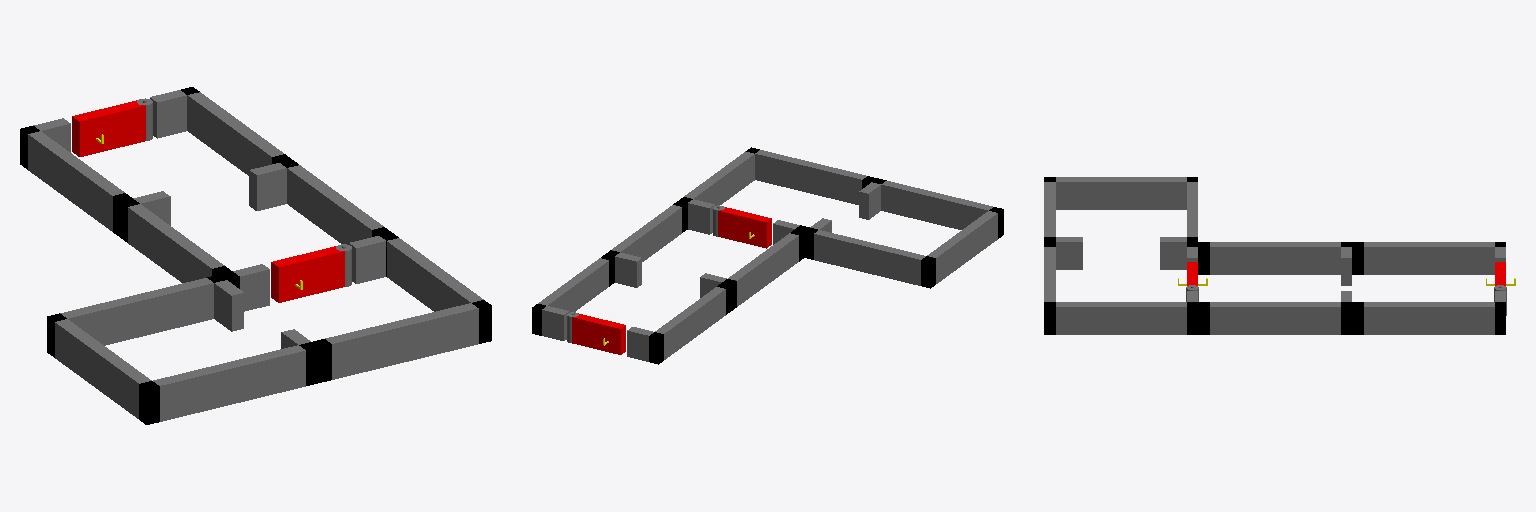
--- Facts derived from the render (not from the file) ---
3 views of the same robot in one strip: view 1: azimuth 30°, elevation 25°; view 2: azimuth 150°, elevation 25°; view 3: azimuth 270°, elevation 25° (orthographic).
Model rooms2 with 54 links and 53 joints (2 revolute, 2 prismatic, 49 fixed), rooted at base_link, posed every joint at zero.
Links seen in each view (by area): view 1: link_fixed_26_wall_(1.0, -0.4625), link_fixed_11_wall_(0.0, -0.4625), link_fixed_4_wall_(0.0, 0.4625), link_fixed_48_wall_(0.5375, 2.0), link_fixed_9_wall_(-0.4625, 0.0), link_fixed_46_wall_(1.4625, 2.0), link_fixed_31_wall_(1.4625, 1.0), link_fixed_33_wall_(0.5375, 1.0), link_fixed_23_wall_(1.4625, 0.0), link_fixed_17_door_panel, link_fixed_40_door_panel, link_fixed_29_wall_(1.3375, 1.4625) (+10 smaller); view 2: link_fixed_4_wall_(0.0, 0.4625), link_fixed_26_wall_(1.0, -0.4625), link_fixed_11_wall_(0.0, -0.4625), link_fixed_33_wall_(0.5375, 1.0), link_fixed_48_wall_(0.5375, 2.0), link_fixed_9_wall_(-0.4625, 0.0), link_fixed_31_wall_(1.4625, 1.0), link_fixed_23_wall_(1.4625, 0.0), link_fixed_46_wall_(1.4625, 2.0), link_fixed_40_door_panel, link_fixed_17_door_panel, link_fixed_29_wall_(1.3375, 1.4625) (+4 smaller); view 3: link_fixed_23_wall_(1.4625, 0.0), link_fixed_31_wall_(1.4625, 1.0), link_fixed_33_wall_(0.5375, 1.0), link_fixed_46_wall_(1.4625, 2.0), link_fixed_48_wall_(0.5375, 2.0), link_fixed_9_wall_(-0.4625, 0.0), link_fixed_6_wall_(0.4625, -0.3375), link_fixed_7_wall_(0.4625, 0.3375), link_fixed_11_wall_(0.0, -0.4625), link_fixed_26_wall_(1.0, -0.4625), link_fixed_4_wall_(0.0, 0.4625).
Boxes of the visible links, box(x1,y1,x2,y2) form: link_fixed_26_wall_(1.0, -0.4625): box(325, 303, 478, 379); link_fixed_11_wall_(0.0, -0.4625): box(153, 345, 305, 421); link_fixed_4_wall_(0.0, 0.4625): box(60, 278, 213, 345); link_fixed_48_wall_(0.5375, 2.0): box(28, 131, 124, 231); link_fixed_9_wall_(-0.4625, 0.0): box(55, 319, 151, 418); link_fixed_46_wall_(1.4625, 2.0): box(187, 92, 283, 175); link_fixed_31_wall_(1.4625, 1.0): box(287, 165, 383, 244); link_fixed_33_wall_(0.5375, 1.0): box(128, 204, 224, 282); link_fixed_23_wall_(1.4625, 0.0): box(387, 238, 483, 311); link_fixed_17_door_panel: box(271, 246, 344, 302); link_fixed_40_door_panel: box(72, 100, 145, 156); link_fixed_29_wall_(1.3375, 1.4625): box(249, 163, 286, 210); link_fixed_4_wall_(0.0, 0.4625): box(814, 230, 925, 285); link_fixed_26_wall_(1.0, -0.4625): box(755, 150, 866, 204); link_fixed_11_wall_(0.0, -0.4625): box(881, 181, 992, 229); link_fixed_33_wall_(0.5375, 1.0): box(728, 233, 798, 306); link_fixed_48_wall_(0.5375, 2.0): box(655, 287, 725, 359); link_fixed_9_wall_(-0.4625, 0.0): box(927, 211, 997, 283); link_fixed_31_wall_(1.4625, 1.0): box(612, 205, 681, 261); link_fixed_23_wall_(1.4625, 0.0): box(684, 151, 754, 205); link_fixed_46_wall_(1.4625, 2.0): box(538, 258, 608, 312); link_fixed_40_door_panel: box(572, 313, 625, 354); link_fixed_17_door_panel: box(718, 207, 771, 248); link_fixed_29_wall_(1.3375, 1.4625): box(615, 252, 641, 287); link_fixed_23_wall_(1.4625, 0.0): box(1056, 302, 1186, 334); link_fixed_31_wall_(1.4625, 1.0): box(1210, 302, 1340, 334); link_fixed_33_wall_(0.5375, 1.0): box(1210, 242, 1340, 274); link_fixed_46_wall_(1.4625, 2.0): box(1364, 302, 1494, 334); link_fixed_48_wall_(0.5375, 2.0): box(1364, 242, 1494, 274); link_fixed_9_wall_(-0.4625, 0.0): box(1056, 177, 1186, 209); link_fixed_6_wall_(0.4625, -0.3375): box(1056, 237, 1082, 269); link_fixed_7_wall_(0.4625, 0.3375): box(1160, 237, 1186, 269); link_fixed_11_wall_(0.0, -0.4625): box(1044, 182, 1055, 236); link_fixed_26_wall_(1.0, -0.4625): box(1044, 247, 1055, 301); link_fixed_4_wall_(0.0, 0.4625): box(1187, 182, 1197, 236).
Bounding box of the posed robot: 8 × 12.24 × 0.879 m (x, y, z).
Geometry: only primitive shapes (box / cylinder / sphere) drawn; not drawn: 2 mesh visuals (reference in a form the renderer does not follow).

URDF robot description (rooms2):
<?xml version="1.0"?>
<!-- created with Phobos 1.0.1 "Capricious Choutengan" -->
  <robot name="rooms2">

    <link name="base_link">
    </link>

    <link name="goal">
    </link>

    <link name="link_0_joint_0">
      <visual name="visual_mesh_2_link_0">
        <origin xyz="0 0 0" rpy="0 0 0"/>
        <geometry>
          <mesh filename="file://[local-path]/ba/puzzle-generator/puzzles/rooms2/meshes/stl/robot.stl" scale="1.0 1.0 1.0"/>
        </geometry>
        <material name="green"/>
      </visual>
      <collision name="collision_mesh_2_link_0">
        <origin xyz="0 0 0" rpy="0 0 0"/>
        <geometry>
          <mesh filename="file://[local-path]/ba/puzzle-generator/puzzles/rooms2/meshes/stl/robot.001.stl" scale="1.0 1.0 1.0"/>
        </geometry>
      </collision>
    </link>

    <link name="link_0_joint_0.001">
      <visual name="visual_mesh_2_link_0.001">
        <origin xyz="0 0 0" rpy="0 0 0"/>
        <geometry>
          <mesh filename="file://[local-path]/ba/puzzle-generator/puzzles/rooms2/meshes/stl/robot.002.stl" scale="0.999 0.999 0.999"/>
        </geometry>
        <material name="green_translucent"/>
      </visual>
    </link>

    <link name="link_0_joint_1">
    </link>

    <link name="link_0_joint_1.001">
    </link>

    <link name="link_0_joint_2">
    </link>

    <link name="link_1_joint_0">
      <visual name="visual_cylinder_15_link_1">
        <origin xyz="0 0 0" rpy="0 0 0"/>
        <geometry>
          <cylinder radius="0.1645" length="0.799"/>
        </geometry>
        <material name="gray"/>
      </visual>
      <collision name="collision_cylinder_15_link_1">
        <origin xyz="0 0 0" rpy="0 0 0"/>
        <geometry>
          <cylinder radius="0.1645" length="0.799"/>
        </geometry>
      </collision>
    </link>

    <link name="link_2_joint_0">
      <visual name="visual_cylinder_38_link_2">
        <origin xyz="0 0 0" rpy="0 0 0"/>
        <geometry>
          <cylinder radius="0.1645" length="0.799"/>
        </geometry>
        <material name="gray"/>
      </visual>
      <collision name="collision_cylinder_38_link_2">
        <origin xyz="0 0 0" rpy="0 0 0"/>
        <geometry>
          <cylinder radius="0.1645" length="0.799"/>
        </geometry>
      </collision>
    </link>

    <link name="link_fixed_10_pillar_(0.4625, -0.4625)">
      <visual name="visual_box_fixed_10_pillar_(0.4625, -0.4625)">
        <origin xyz="0 0 0" rpy="0 0 0"/>
        <geometry>
          <box size="0.299 0.299 0.799"/>
        </geometry>
        <material name="black"/>
      </visual>
      <collision name="collision_box_fixed_10_pillar_(0.4625, -0.4625)">
        <origin xyz="0 0 0" rpy="0 0 0"/>
        <geometry>
          <box size="0.299 0.299 0.799"/>
        </geometry>
      </collision>
    </link>

    <link name="link_fixed_11_wall_(0.0, -0.4625)">
      <visual name="visual_box_fixed_11_wall_(0.0, -0.4625)">
        <origin xyz="0 0 0" rpy="0 0 0"/>
        <geometry>
          <box size="3.399 0.299 0.799"/>
        </geometry>
        <material name="gray"/>
      </visual>
      <collision name="collision_box_fixed_11_wall_(0.0, -0.4625)">
        <origin xyz="0 0 0" rpy="0 0 0"/>
        <geometry>
          <box size="3.399 0.299 0.799"/>
        </geometry>
      </collision>
    </link>

    <link name="link_fixed_12_pillar_(0.5375, 0.4625)">
      <visual name="visual_box_fixed_12_pillar_(0.5375, 0.4625)">
        <origin xyz="0 0 0" rpy="0 0 0"/>
        <geometry>
          <box size="0.299 0.299 0.799"/>
        </geometry>
        <material name="black"/>
      </visual>
      <collision name="collision_box_fixed_12_pillar_(0.5375, 0.4625)">
        <origin xyz="0 0 0" rpy="0 0 0"/>
        <geometry>
          <box size="0.299 0.299 0.799"/>
        </geometry>
      </collision>
    </link>

    <link name="link_fixed_13_wall_(0.6625, 0.4625)">
      <visual name="visual_box_fixed_13_wall_(0.6625, 0.4625)">
        <origin xyz="0 0 0" rpy="0 0 0"/>
        <geometry>
          <box size="0.699 0.299 0.799"/>
        </geometry>
        <material name="gray"/>
      </visual>
      <collision name="collision_box_fixed_13_wall_(0.6625, 0.4625)">
        <origin xyz="0 0 0" rpy="0 0 0"/>
        <geometry>
          <box size="0.699 0.299 0.799"/>
        </geometry>
      </collision>
    </link>

    <link name="link_fixed_14_wall_(1.3375, 0.4625)">
      <visual name="visual_box_fixed_14_wall_(1.3375, 0.4625)">
        <origin xyz="0 0 0" rpy="0 0 0"/>
        <geometry>
          <box size="0.699 0.299 0.799"/>
        </geometry>
        <material name="gray"/>
      </visual>
      <collision name="collision_box_fixed_14_wall_(1.3375, 0.4625)">
        <origin xyz="0 0 0" rpy="0 0 0"/>
        <geometry>
          <box size="0.699 0.299 0.799"/>
        </geometry>
      </collision>
    </link>

    <link name="link_fixed_16_hinge">
      <visual name="visual_cylinder_fixed_16_hinge">
        <origin xyz="0 0 0" rpy="0 0 0"/>
        <geometry>
          <cylinder radius="0.04075" length="0.879"/>
        </geometry>
        <material name="gray"/>
      </visual>
    </link>

    <link name="link_fixed_17_door_panel">
      <visual name="visual_box_fixed_17_door_panel">
        <origin xyz="0 0 0" rpy="0 0 0"/>
        <geometry>
          <box size="1.599 0.299 0.795"/>
        </geometry>
        <material name="red"/>
      </visual>
      <collision name="collision_box_fixed_17_door_panel">
        <origin xyz="0 0 0" rpy="0 0 0"/>
        <geometry>
          <box size="1.599 0.299 0.795"/>
        </geometry>
      </collision>
    </link>

    <link name="link_fixed_18_door_handle1">
      <visual name="visual_box_fixed_18_door_handle1">
        <origin xyz="0 0 0" rpy="0 0 0"/>
        <geometry>
          <box size="0.039 0.039 0.199"/>
        </geometry>
        <material name="yellow"/>
      </visual>
      <collision name="collision_box_fixed_18_door_handle1">
        <origin xyz="0 0 0" rpy="0 0 0"/>
        <geometry>
          <box size="0.039 0.039 0.199"/>
        </geometry>
      </collision>
    </link>

    <link name="link_fixed_19_door_handle1_connector">
      <visual name="visual_box_fixed_19_door_handle1_connector">
        <origin xyz="0 0 0" rpy="0 0 0"/>
        <geometry>
          <box size="0.039 0.199 0.039"/>
        </geometry>
        <material name="yellow"/>
      </visual>
      <collision name="collision_box_fixed_19_door_handle1_connector">
        <origin xyz="0 0 0" rpy="0 0 0"/>
        <geometry>
          <box size="0.039 0.199 0.039"/>
        </geometry>
      </collision>
    </link>

    <link name="link_fixed_20_door_handle2">
      <visual name="visual_box_fixed_20_door_handle2">
        <origin xyz="0 0 0" rpy="0 0 0"/>
        <geometry>
          <box size="0.039 0.039 0.199"/>
        </geometry>
        <material name="yellow"/>
      </visual>
      <collision name="collision_box_fixed_20_door_handle2">
        <origin xyz="0 0 0" rpy="0 0 0"/>
        <geometry>
          <box size="0.039 0.039 0.199"/>
        </geometry>
      </collision>
    </link>

    <link name="link_fixed_21_door_handle2_connector">
      <visual name="visual_box_fixed_21_door_handle2_connector">
        <origin xyz="0 0 0" rpy="0 0 0"/>
        <geometry>
          <box size="0.039 0.199 0.039"/>
        </geometry>
        <material name="yellow"/>
      </visual>
      <collision name="collision_box_fixed_21_door_handle2_connector">
        <origin xyz="0 0 0" rpy="0 0 0"/>
        <geometry>
          <box size="0.039 0.199 0.039"/>
        </geometry>
      </collision>
    </link>

    <link name="link_fixed_22_pillar_(1.4625, 0.4625)">
      <visual name="visual_box_fixed_22_pillar_(1.4625, 0.4625)">
        <origin xyz="0 0 0" rpy="0 0 0"/>
        <geometry>
          <box size="0.299 0.299 0.799"/>
        </geometry>
        <material name="black"/>
      </visual>
      <collision name="collision_box_fixed_22_pillar_(1.4625, 0.4625)">
        <origin xyz="0 0 0" rpy="0 0 0"/>
        <geometry>
          <box size="0.299 0.299 0.799"/>
        </geometry>
      </collision>
    </link>

    <link name="link_fixed_23_wall_(1.4625, 0.0)">
      <visual name="visual_box_fixed_23_wall_(1.4625, 0.0)">
        <origin xyz="0 0 0" rpy="0 0 0"/>
        <geometry>
          <box size="0.299 3.399 0.799"/>
        </geometry>
        <material name="gray"/>
      </visual>
      <collision name="collision_box_fixed_23_wall_(1.4625, 0.0)">
        <origin xyz="0 0 0" rpy="0 0 0"/>
        <geometry>
          <box size="0.299 3.399 0.799"/>
        </geometry>
      </collision>
    </link>

    <link name="link_fixed_24_pillar_(0.5375, -0.4625)">
      <visual name="visual_box_fixed_24_pillar_(0.5375, -0.4625)">
        <origin xyz="0 0 0" rpy="0 0 0"/>
        <geometry>
          <box size="0.299 0.299 0.799"/>
        </geometry>
        <material name="black"/>
      </visual>
      <collision name="collision_box_fixed_24_pillar_(0.5375, -0.4625)">
        <origin xyz="0 0 0" rpy="0 0 0"/>
        <geometry>
          <box size="0.299 0.299 0.799"/>
        </geometry>
      </collision>
    </link>

    <link name="link_fixed_25_pillar_(1.4625, -0.4625)">
      <visual name="visual_box_fixed_25_pillar_(1.4625, -0.4625)">
        <origin xyz="0 0 0" rpy="0 0 0"/>
        <geometry>
          <box size="0.299 0.299 0.799"/>
        </geometry>
        <material name="black"/>
      </visual>
      <collision name="collision_box_fixed_25_pillar_(1.4625, -0.4625)">
        <origin xyz="0 0 0" rpy="0 0 0"/>
        <geometry>
          <box size="0.299 0.299 0.799"/>
        </geometry>
      </collision>
    </link>

    <link name="link_fixed_26_wall_(1.0, -0.4625)">
      <visual name="visual_box_fixed_26_wall_(1.0, -0.4625)">
        <origin xyz="0 0 0" rpy="0 0 0"/>
        <geometry>
          <box size="3.399 0.299 0.799"/>
        </geometry>
        <material name="gray"/>
      </visual>
      <collision name="collision_box_fixed_26_wall_(1.0, -0.4625)">
        <origin xyz="0 0 0" rpy="0 0 0"/>
        <geometry>
          <box size="3.399 0.299 0.799"/>
        </geometry>
      </collision>
    </link>

    <link name="link_fixed_27_pillar_(0.5375, 1.4625)">
      <visual name="visual_box_fixed_27_pillar_(0.5375, 1.4625)">
        <origin xyz="0 0 0" rpy="0 0 0"/>
        <geometry>
          <box size="0.299 0.299 0.799"/>
        </geometry>
        <material name="black"/>
      </visual>
      <collision name="collision_box_fixed_27_pillar_(0.5375, 1.4625)">
        <origin xyz="0 0 0" rpy="0 0 0"/>
        <geometry>
          <box size="0.299 0.299 0.799"/>
        </geometry>
      </collision>
    </link>

    <link name="link_fixed_28_wall_(0.6625, 1.4625)">
      <visual name="visual_box_fixed_28_wall_(0.6625, 1.4625)">
        <origin xyz="0 0 0" rpy="0 0 0"/>
        <geometry>
          <box size="0.699 0.299 0.799"/>
        </geometry>
        <material name="gray"/>
      </visual>
      <collision name="collision_box_fixed_28_wall_(0.6625, 1.4625)">
        <origin xyz="0 0 0" rpy="0 0 0"/>
        <geometry>
          <box size="0.699 0.299 0.799"/>
        </geometry>
      </collision>
    </link>

    <link name="link_fixed_29_wall_(1.3375, 1.4625)">
      <visual name="visual_box_fixed_29_wall_(1.3375, 1.4625)">
        <origin xyz="0 0 0" rpy="0 0 0"/>
        <geometry>
          <box size="0.699 0.299 0.799"/>
        </geometry>
        <material name="gray"/>
      </visual>
      <collision name="collision_box_fixed_29_wall_(1.3375, 1.4625)">
        <origin xyz="0 0 0" rpy="0 0 0"/>
        <geometry>
          <box size="0.699 0.299 0.799"/>
        </geometry>
      </collision>
    </link>

    <link name="link_fixed_30_pillar_(1.4625, 1.4625)">
      <visual name="visual_box_fixed_30_pillar_(1.4625, 1.4625)">
        <origin xyz="0 0 0" rpy="0 0 0"/>
        <geometry>
          <box size="0.299 0.299 0.799"/>
        </geometry>
        <material name="black"/>
      </visual>
      <collision name="collision_box_fixed_30_pillar_(1.4625, 1.4625)">
        <origin xyz="0 0 0" rpy="0 0 0"/>
        <geometry>
          <box size="0.299 0.299 0.799"/>
        </geometry>
      </collision>
    </link>

    <link name="link_fixed_31_wall_(1.4625, 1.0)">
      <visual name="visual_box_fixed_31_wall_(1.4625, 1.0)">
        <origin xyz="0 0 0" rpy="0 0 0"/>
        <geometry>
          <box size="0.299 3.399 0.799"/>
        </geometry>
        <material name="gray"/>
      </visual>
      <collision name="collision_box_fixed_31_wall_(1.4625, 1.0)">
        <origin xyz="0 0 0" rpy="0 0 0"/>
        <geometry>
          <box size="0.299 3.399 0.799"/>
        </geometry>
      </collision>
    </link>

    <link name="link_fixed_32_pillar_(0.5375, 0.5375)">
      <visual name="visual_box_fixed_32_pillar_(0.5375, 0.5375)">
        <origin xyz="0 0 0" rpy="0 0 0"/>
        <geometry>
          <box size="0.299 0.299 0.799"/>
        </geometry>
        <material name="black"/>
      </visual>
      <collision name="collision_box_fixed_32_pillar_(0.5375, 0.5375)">
        <origin xyz="0 0 0" rpy="0 0 0"/>
        <geometry>
          <box size="0.299 0.299 0.799"/>
        </geometry>
      </collision>
    </link>

    <link name="link_fixed_33_wall_(0.5375, 1.0)">
      <visual name="visual_box_fixed_33_wall_(0.5375, 1.0)">
        <origin xyz="0 0 0" rpy="0 0 0"/>
        <geometry>
          <box size="0.299 3.399 0.799"/>
        </geometry>
        <material name="gray"/>
      </visual>
      <collision name="collision_box_fixed_33_wall_(0.5375, 1.0)">
        <origin xyz="0 0 0" rpy="0 0 0"/>
        <geometry>
          <box size="0.299 3.399 0.799"/>
        </geometry>
      </collision>
    </link>

    <link name="link_fixed_34_pillar_(1.4625, 0.5375)">
      <visual name="visual_box_fixed_34_pillar_(1.4625, 0.5375)">
        <origin xyz="0 0 0" rpy="0 0 0"/>
        <geometry>
          <box size="0.299 0.299 0.799"/>
        </geometry>
        <material name="black"/>
      </visual>
      <collision name="collision_box_fixed_34_pillar_(1.4625, 0.5375)">
        <origin xyz="0 0 0" rpy="0 0 0"/>
        <geometry>
          <box size="0.299 0.299 0.799"/>
        </geometry>
      </collision>
    </link>

    <link name="link_fixed_35_pillar_(0.5375, 2.4625)">
      <visual name="visual_box_fixed_35_pillar_(0.5375, 2.4625)">
        <origin xyz="0 0 0" rpy="0 0 0"/>
        <geometry>
          <box size="0.299 0.299 0.799"/>
        </geometry>
        <material name="black"/>
      </visual>
      <collision name="collision_box_fixed_35_pillar_(0.5375, 2.4625)">
        <origin xyz="0 0 0" rpy="0 0 0"/>
        <geometry>
          <box size="0.299 0.299 0.799"/>
        </geometry>
      </collision>
    </link>

    <link name="link_fixed_36_wall_(0.6625, 2.4625)">
      <visual name="visual_box_fixed_36_wall_(0.6625, 2.4625)">
        <origin xyz="0 0 0" rpy="0 0 0"/>
        <geometry>
          <box size="0.699 0.299 0.799"/>
        </geometry>
        <material name="gray"/>
      </visual>
      <collision name="collision_box_fixed_36_wall_(0.6625, 2.4625)">
        <origin xyz="0 0 0" rpy="0 0 0"/>
        <geometry>
          <box size="0.699 0.299 0.799"/>
        </geometry>
      </collision>
    </link>

    <link name="link_fixed_37_wall_(1.3375, 2.4625)">
      <visual name="visual_box_fixed_37_wall_(1.3375, 2.4625)">
        <origin xyz="0 0 0" rpy="0 0 0"/>
        <geometry>
          <box size="0.699 0.299 0.799"/>
        </geometry>
        <material name="gray"/>
      </visual>
      <collision name="collision_box_fixed_37_wall_(1.3375, 2.4625)">
        <origin xyz="0 0 0" rpy="0 0 0"/>
        <geometry>
          <box size="0.699 0.299 0.799"/>
        </geometry>
      </collision>
    </link>

    <link name="link_fixed_39_hinge">
      <visual name="visual_cylinder_fixed_39_hinge">
        <origin xyz="0 0 0" rpy="0 0 0"/>
        <geometry>
          <cylinder radius="0.04075" length="0.879"/>
        </geometry>
        <material name="gray"/>
      </visual>
    </link>

    <link name="link_fixed_3_pillar_(-0.4625, 0.4625)">
      <visual name="visual_box_fixed_3_pillar_(-0.4625, 0.4625)">
        <origin xyz="0 0 0" rpy="0 0 0"/>
        <geometry>
          <box size="0.299 0.299 0.799"/>
        </geometry>
        <material name="black"/>
      </visual>
      <collision name="collision_box_fixed_3_pillar_(-0.4625, 0.4625)">
        <origin xyz="0 0 0" rpy="0 0 0"/>
        <geometry>
          <box size="0.299 0.299 0.799"/>
        </geometry>
      </collision>
    </link>

    <link name="link_fixed_40_door_panel">
      <visual name="visual_box_fixed_40_door_panel">
        <origin xyz="0 0 0" rpy="0 0 0"/>
        <geometry>
          <box size="1.599 0.299 0.795"/>
        </geometry>
        <material name="red"/>
      </visual>
      <collision name="collision_box_fixed_40_door_panel">
        <origin xyz="0 0 0" rpy="0 0 0"/>
        <geometry>
          <box size="1.599 0.299 0.795"/>
        </geometry>
      </collision>
    </link>

    <link name="link_fixed_41_door_handle1">
      <visual name="visual_box_fixed_41_door_handle1">
        <origin xyz="0 0 0" rpy="0 0 0"/>
        <geometry>
          <box size="0.039 0.039 0.199"/>
        </geometry>
        <material name="yellow"/>
      </visual>
      <collision name="collision_box_fixed_41_door_handle1">
        <origin xyz="0 0 0" rpy="0 0 0"/>
        <geometry>
          <box size="0.039 0.039 0.199"/>
        </geometry>
      </collision>
    </link>

    <link name="link_fixed_42_door_handle1_connector">
      <visual name="visual_box_fixed_42_door_handle1_connector">
        <origin xyz="0 0 0" rpy="0 0 0"/>
        <geometry>
          <box size="0.039 0.199 0.039"/>
        </geometry>
        <material name="yellow"/>
      </visual>
      <collision name="collision_box_fixed_42_door_handle1_connector">
        <origin xyz="0 0 0" rpy="0 0 0"/>
        <geometry>
          <box size="0.039 0.199 0.039"/>
        </geometry>
      </collision>
    </link>

    <link name="link_fixed_43_door_handle2">
      <visual name="visual_box_fixed_43_door_handle2">
        <origin xyz="0 0 0" rpy="0 0 0"/>
        <geometry>
          <box size="0.039 0.039 0.199"/>
        </geometry>
        <material name="yellow"/>
      </visual>
      <collision name="collision_box_fixed_43_door_handle2">
        <origin xyz="0 0 0" rpy="0 0 0"/>
        <geometry>
          <box size="0.039 0.039 0.199"/>
        </geometry>
      </collision>
    </link>

    <link name="link_fixed_44_door_handle2_connector">
      <visual name="visual_box_fixed_44_door_handle2_connector">
        <origin xyz="0 0 0" rpy="0 0 0"/>
        <geometry>
          <box size="0.039 0.199 0.039"/>
        </geometry>
        <material name="yellow"/>
      </visual>
      <collision name="collision_box_fixed_44_door_handle2_connector">
        <origin xyz="0 0 0" rpy="0 0 0"/>
        <geometry>
          <box size="0.039 0.199 0.039"/>
        </geometry>
      </collision>
    </link>

    <link name="link_fixed_45_pillar_(1.4625, 2.4625)">
      <visual name="visual_box_fixed_45_pillar_(1.4625, 2.4625)">
        <origin xyz="0 0 0" rpy="0 0 0"/>
        <geometry>
          <box size="0.299 0.299 0.799"/>
        </geometry>
        <material name="black"/>
      </visual>
      <collision name="collision_box_fixed_45_pillar_(1.4625, 2.4625)">
        <origin xyz="0 0 0" rpy="0 0 0"/>
        <geometry>
          <box size="0.299 0.299 0.799"/>
        </geometry>
      </collision>
    </link>

    <link name="link_fixed_46_wall_(1.4625, 2.0)">
      <visual name="visual_box_fixed_46_wall_(1.4625, 2.0)">
        <origin xyz="0 0 0" rpy="0 0 0"/>
        <geometry>
          <box size="0.299 3.399 0.799"/>
        </geometry>
        <material name="gray"/>
      </visual>
      <collision name="collision_box_fixed_46_wall_(1.4625, 2.0)">
        <origin xyz="0 0 0" rpy="0 0 0"/>
        <geometry>
          <box size="0.299 3.399 0.799"/>
        </geometry>
      </collision>
    </link>

    <link name="link_fixed_47_pillar_(0.5375, 1.5375)">
      <visual name="visual_box_fixed_47_pillar_(0.5375, 1.5375)">
        <origin xyz="0 0 0" rpy="0 0 0"/>
        <geometry>
          <box size="0.299 0.299 0.799"/>
        </geometry>
        <material name="black"/>
      </visual>
      <collision name="collision_box_fixed_47_pillar_(0.5375, 1.5375)">
        <origin xyz="0 0 0" rpy="0 0 0"/>
        <geometry>
          <box size="0.299 0.299 0.799"/>
        </geometry>
      </collision>
    </link>

    <link name="link_fixed_48_wall_(0.5375, 2.0)">
      <visual name="visual_box_fixed_48_wall_(0.5375, 2.0)">
        <origin xyz="0 0 0" rpy="0 0 0"/>
        <geometry>
          <box size="0.299 3.399 0.799"/>
        </geometry>
        <material name="gray"/>
      </visual>
      <collision name="collision_box_fixed_48_wall_(0.5375, 2.0)">
        <origin xyz="0 0 0" rpy="0 0 0"/>
        <geometry>
          <box size="0.299 3.399 0.799"/>
        </geometry>
      </collision>
    </link>

    <link name="link_fixed_49_pillar_(1.4625, 1.5375)">
      <visual name="visual_box_fixed_49_pillar_(1.4625, 1.5375)">
        <origin xyz="0 0 0" rpy="0 0 0"/>
        <geometry>
          <box size="0.299 0.299 0.799"/>
        </geometry>
        <material name="black"/>
      </visual>
      <collision name="collision_box_fixed_49_pillar_(1.4625, 1.5375)">
        <origin xyz="0 0 0" rpy="0 0 0"/>
        <geometry>
          <box size="0.299 0.299 0.799"/>
        </geometry>
      </collision>
    </link>

    <link name="link_fixed_4_wall_(0.0, 0.4625)">
      <visual name="visual_box_fixed_4_wall_(0.0, 0.4625)">
        <origin xyz="0 0 0" rpy="0 0 0"/>
        <geometry>
          <box size="3.399 0.299 0.799"/>
        </geometry>
        <material name="gray"/>
      </visual>
      <collision name="collision_box_fixed_4_wall_(0.0, 0.4625)">
        <origin xyz="0 0 0" rpy="0 0 0"/>
        <geometry>
          <box size="3.399 0.299 0.799"/>
        </geometry>
      </collision>
    </link>

    <link name="link_fixed_5_pillar_(0.4625, 0.4625)">
      <visual name="visual_box_fixed_5_pillar_(0.4625, 0.4625)">
        <origin xyz="0 0 0" rpy="0 0 0"/>
        <geometry>
          <box size="0.299 0.299 0.799"/>
        </geometry>
        <material name="black"/>
      </visual>
      <collision name="collision_box_fixed_5_pillar_(0.4625, 0.4625)">
        <origin xyz="0 0 0" rpy="0 0 0"/>
        <geometry>
          <box size="0.299 0.299 0.799"/>
        </geometry>
      </collision>
    </link>

    <link name="link_fixed_6_wall_(0.4625, -0.3375)">
      <visual name="visual_box_fixed_6_wall_(0.4625, -0.3375)">
        <origin xyz="0 0 0" rpy="0 0 0"/>
        <geometry>
          <box size="0.299 0.699 0.799"/>
        </geometry>
        <material name="gray"/>
      </visual>
      <collision name="collision_box_fixed_6_wall_(0.4625, -0.3375)">
        <origin xyz="0 0 0" rpy="0 0 0"/>
        <geometry>
          <box size="0.299 0.699 0.799"/>
        </geometry>
      </collision>
    </link>

    <link name="link_fixed_7_wall_(0.4625, 0.3375)">
      <visual name="visual_box_fixed_7_wall_(0.4625, 0.3375)">
        <origin xyz="0 0 0" rpy="0 0 0"/>
        <geometry>
          <box size="0.299 0.699 0.799"/>
        </geometry>
        <material name="gray"/>
      </visual>
      <collision name="collision_box_fixed_7_wall_(0.4625, 0.3375)">
        <origin xyz="0 0 0" rpy="0 0 0"/>
        <geometry>
          <box size="0.299 0.699 0.799"/>
        </geometry>
      </collision>
    </link>

    <link name="link_fixed_8_pillar_(-0.4625, -0.4625)">
      <visual name="visual_box_fixed_8_pillar_(-0.4625, -0.4625)">
        <origin xyz="0 0 0" rpy="0 0 0"/>
        <geometry>
          <box size="0.299 0.299 0.799"/>
        </geometry>
        <material name="black"/>
      </visual>
      <collision name="collision_box_fixed_8_pillar_(-0.4625, -0.4625)">
        <origin xyz="0 0 0" rpy="0 0 0"/>
        <geometry>
          <box size="0.299 0.299 0.799"/>
        </geometry>
      </collision>
    </link>

    <link name="link_fixed_9_wall_(-0.4625, 0.0)">
      <visual name="visual_box_fixed_9_wall_(-0.4625, 0.0)">
        <origin xyz="0 0 0" rpy="0 0 0"/>
        <geometry>
          <box size="0.299 3.399 0.799"/>
        </geometry>
        <material name="gray"/>
      </visual>
      <collision name="collision_box_fixed_9_wall_(-0.4625, 0.0)">
        <origin xyz="0 0 0" rpy="0 0 0"/>
        <geometry>
          <box size="0.299 3.399 0.799"/>
        </geometry>
      </collision>
    </link>

    <joint name="goal" type="fixed">
      <origin xyz="4.0 12.0 0.25" rpy="0 0 0"/>
      <parent link="base_link"/>
      <child link="goal"/>
      <limit effort="0" velocity="0"/>
    </joint>

    <joint name="link_0_joint_0" type="fixed">
      <origin xyz="0 0 0" rpy="0 0 0"/>
      <parent link="link_0_joint_1"/>
      <child link="link_0_joint_0"/>
      <limit effort="0" velocity="0"/>
    </joint>

    <joint name="link_0_joint_0.001" type="fixed">
      <origin xyz="0 0 0" rpy="0 0 0"/>
      <parent link="link_0_joint_1.001"/>
      <child link="link_0_joint_0.001"/>
      <limit effort="0" velocity="0"/>
    </joint>

    <joint name="link_0_joint_1" type="prismatic">
      <origin xyz="0 0 0" rpy="0 0 0"/>
      <parent link="link_0_joint_2"/>
      <child link="link_0_joint_1"/>
      <axis xyz="0 1.0 0"/>
      <limit lower="-2.0" upper="14.0" effort="0" velocity="0"/>
    </joint>

    <joint name="link_0_joint_1.001" type="fixed">
      <origin xyz="0 0 0" rpy="0 0 0"/>
      <parent link="goal"/>
      <child link="link_0_joint_1.001"/>
      <limit effort="0" velocity="0"/>
    </joint>

    <joint name="link_0_joint_2" type="prismatic">
      <origin xyz="0 0 0.25" rpy="0 0 0"/>
      <parent link="base_link"/>
      <child link="link_0_joint_2"/>
      <axis xyz="1.0 0 0"/>
      <limit lower="-2.0" upper="6.0" effort="0" velocity="0"/>
    </joint>

    <joint name="link_1_joint_0" type="revolute">
      <origin xyz="4.8 1.85 0.4" rpy="0 0 3.14159"/>
      <parent link="base_link"/>
      <child link="link_1_joint_0"/>
      <axis xyz="0 0 1.0"/>
      <limit lower="0" upper="1.5708" effort="0" velocity="0"/>
    </joint>

    <joint name="link_2_joint_0" type="revolute">
      <origin xyz="4.8 9.85 0.4" rpy="0 0 3.14159"/>
      <parent link="base_link"/>
      <child link="link_2_joint_0"/>
      <axis xyz="0 0 1.0"/>
      <limit lower="0" upper="1.5708" effort="0" velocity="0"/>
    </joint>

    <joint name="link_fixed_10_pillar_(0.4625, -0.4625)" type="fixed">
      <origin xyz="1.85 -1.85 0.4" rpy="0 0 0"/>
      <parent link="base_link"/>
      <child link="link_fixed_10_pillar_(0.4625, -0.4625)"/>
    </joint>

    <joint name="link_fixed_11_wall_(0.0, -0.4625)" type="fixed">
      <origin xyz="0 -1.85 0.4" rpy="0 0 0"/>
      <parent link="base_link"/>
      <child link="link_fixed_11_wall_(0.0, -0.4625)"/>
    </joint>

    <joint name="link_fixed_12_pillar_(0.5375, 0.4625)" type="fixed">
      <origin xyz="2.15 1.85 0.4" rpy="0 0 0"/>
      <parent link="base_link"/>
      <child link="link_fixed_12_pillar_(0.5375, 0.4625)"/>
    </joint>

    <joint name="link_fixed_13_wall_(0.6625, 0.4625)" type="fixed">
      <origin xyz="2.65 1.85 0.4" rpy="0 0 0"/>
      <parent link="base_link"/>
      <child link="link_fixed_13_wall_(0.6625, 0.4625)"/>
    </joint>

    <joint name="link_fixed_14_wall_(1.3375, 0.4625)" type="fixed">
      <origin xyz="5.35 1.85 0.4" rpy="0 0 0"/>
      <parent link="base_link"/>
      <child link="link_fixed_14_wall_(1.3375, 0.4625)"/>
    </joint>

    <joint name="link_fixed_16_hinge" type="fixed">
      <origin xyz="0 0 0" rpy="0 0 0"/>
      <parent link="link_1_joint_0"/>
      <child link="link_fixed_16_hinge"/>
    </joint>

    <joint name="link_fixed_17_door_panel" type="fixed">
      <origin xyz="0.8 0 0" rpy="0 0 0"/>
      <parent link="link_1_joint_0"/>
      <child link="link_fixed_17_door_panel"/>
    </joint>

    <joint name="link_fixed_18_door_handle1" type="fixed">
      <origin xyz="1.2 0.37 0" rpy="0 0 0"/>
      <parent link="link_1_joint_0"/>
      <child link="link_fixed_18_door_handle1"/>
    </joint>

    <joint name="link_fixed_19_door_handle1_connector" type="fixed">
      <origin xyz="1.2 0.25 -0.08" rpy="0 0 0"/>
      <parent link="link_1_joint_0"/>
      <child link="link_fixed_19_door_handle1_connector"/>
    </joint>

    <joint name="link_fixed_20_door_handle2" type="fixed">
      <origin xyz="1.2 -0.37 0" rpy="0 0 0"/>
      <parent link="link_1_joint_0"/>
      <child link="link_fixed_20_door_handle2"/>
    </joint>

    <joint name="link_fixed_21_door_handle2_connector" type="fixed">
      <origin xyz="1.2 -0.25 -0.08" rpy="0 0 0"/>
      <parent link="link_1_joint_0"/>
      <child link="link_fixed_21_door_handle2_connector"/>
    </joint>

    <joint name="link_fixed_22_pillar_(1.4625, 0.4625)" type="fixed">
      <origin xyz="5.85 1.85 0.4" rpy="0 0 0"/>
      <parent link="base_link"/>
      <child link="link_fixed_22_pillar_(1.4625, 0.4625)"/>
    </joint>

    <joint name="link_fixed_23_wall_(1.4625, 0.0)" type="fixed">
      <origin xyz="5.85 0 0.4" rpy="0 0 0"/>
      <parent link="base_link"/>
      <child link="link_fixed_23_wall_(1.4625, 0.0)"/>
    </joint>

    <joint name="link_fixed_24_pillar_(0.5375, -0.4625)" type="fixed">
      <origin xyz="2.15 -1.85 0.4" rpy="0 0 0"/>
      <parent link="base_link"/>
      <child link="link_fixed_24_pillar_(0.5375, -0.4625)"/>
    </joint>

    <joint name="link_fixed_25_pillar_(1.4625, -0.4625)" type="fixed">
      <origin xyz="5.85 -1.85 0.4" rpy="0 0 0"/>
      <parent link="base_link"/>
      <child link="link_fixed_25_pillar_(1.4625, -0.4625)"/>
    </joint>

    <joint name="link_fixed_26_wall_(1.0, -0.4625)" type="fixed">
      <origin xyz="4.0 -1.85 0.4" rpy="0 0 0"/>
      <parent link="base_link"/>
      <child link="link_fixed_26_wall_(1.0, -0.4625)"/>
    </joint>

    <joint name="link_fixed_27_pillar_(0.5375, 1.4625)" type="fixed">
      <origin xyz="2.15 5.85 0.4" rpy="0 0 0"/>
      <parent link="base_link"/>
      <child link="link_fixed_27_pillar_(0.5375, 1.4625)"/>
    </joint>

    <joint name="link_fixed_28_wall_(0.6625, 1.4625)" type="fixed">
      <origin xyz="2.65 5.85 0.4" rpy="0 0 0"/>
      <parent link="base_link"/>
      <child link="link_fixed_28_wall_(0.6625, 1.4625)"/>
    </joint>

    <joint name="link_fixed_29_wall_(1.3375, 1.4625)" type="fixed">
      <origin xyz="5.35 5.85 0.4" rpy="0 0 0"/>
      <parent link="base_link"/>
      <child link="link_fixed_29_wall_(1.3375, 1.4625)"/>
    </joint>

    <joint name="link_fixed_30_pillar_(1.4625, 1.4625)" type="fixed">
      <origin xyz="5.85 5.85 0.4" rpy="0 0 0"/>
      <parent link="base_link"/>
      <child link="link_fixed_30_pillar_(1.4625, 1.4625)"/>
    </joint>

    <joint name="link_fixed_31_wall_(1.4625, 1.0)" type="fixed">
      <origin xyz="5.85 4.0 0.4" rpy="0 0 0"/>
      <parent link="base_link"/>
      <child link="link_fixed_31_wall_(1.4625, 1.0)"/>
    </joint>

    <joint name="link_fixed_32_pillar_(0.5375, 0.5375)" type="fixed">
      <origin xyz="2.15 2.15 0.4" rpy="0 0 0"/>
      <parent link="base_link"/>
      <child link="link_fixed_32_pillar_(0.5375, 0.5375)"/>
    </joint>

    <joint name="link_fixed_33_wall_(0.5375, 1.0)" type="fixed">
      <origin xyz="2.15 4.0 0.4" rpy="0 0 0"/>
      <parent link="base_link"/>
      <child link="link_fixed_33_wall_(0.5375, 1.0)"/>
    </joint>

    <joint name="link_fixed_34_pillar_(1.4625, 0.5375)" type="fixed">
      <origin xyz="5.85 2.15 0.4" rpy="0 0 0"/>
      <parent link="base_link"/>
      <child link="link_fixed_34_pillar_(1.4625, 0.5375)"/>
    </joint>

    <joint name="link_fixed_35_pillar_(0.5375, 2.4625)" type="fixed">
      <origin xyz="2.15 9.85 0.4" rpy="0 0 0"/>
      <parent link="base_link"/>
      <child link="link_fixed_35_pillar_(0.5375, 2.4625)"/>
    </joint>

    <joint name="link_fixed_36_wall_(0.6625, 2.4625)" type="fixed">
      <origin xyz="2.65 9.85 0.4" rpy="0 0 0"/>
      <parent link="base_link"/>
      <child link="link_fixed_36_wall_(0.6625, 2.4625)"/>
    </joint>

    <joint name="link_fixed_37_wall_(1.3375, 2.4625)" type="fixed">
      <origin xyz="5.35 9.85 0.4" rpy="0 0 0"/>
      <parent link="base_link"/>
      <child link="link_fixed_37_wall_(1.3375, 2.4625)"/>
    </joint>

    <joint name="link_fixed_39_hinge" type="fixed">
      <origin xyz="0 0 0" rpy="0 0 0"/>
      <parent link="link_2_joint_0"/>
      <child link="link_fixed_39_hinge"/>
    </joint>

    <joint name="link_fixed_3_pillar_(-0.4625, 0.4625)" type="fixed">
      <origin xyz="-1.85 1.85 0.4" rpy="0 0 0"/>
      <parent link="base_link"/>
      <child link="link_fixed_3_pillar_(-0.4625, 0.4625)"/>
    </joint>

    <joint name="link_fixed_40_door_panel" type="fixed">
      <origin xyz="0.8 0 0" rpy="0 0 0"/>
      <parent link="link_2_joint_0"/>
      <child link="link_fixed_40_door_panel"/>
    </joint>

    <joint name="link_fixed_41_door_handle1" type="fixed">
      <origin xyz="1.2 0.37 0" rpy="0 0 0"/>
      <parent link="link_2_joint_0"/>
      <child link="link_fixed_41_door_handle1"/>
    </joint>

    <joint name="link_fixed_42_door_handle1_connector" type="fixed">
      <origin xyz="1.2 0.25 -0.08" rpy="0 0 0"/>
      <parent link="link_2_joint_0"/>
      <child link="link_fixed_42_door_handle1_connector"/>
    </joint>

    <joint name="link_fixed_43_door_handle2" type="fixed">
      <origin xyz="1.2 -0.37 0" rpy="0 0 0"/>
      <parent link="link_2_joint_0"/>
      <child link="link_fixed_43_door_handle2"/>
    </joint>

    <joint name="link_fixed_44_door_handle2_connector" type="fixed">
      <origin xyz="1.2 -0.25 -0.08" rpy="0 0 0"/>
      <parent link="link_2_joint_0"/>
      <child link="link_fixed_44_door_handle2_connector"/>
    </joint>

    <joint name="link_fixed_45_pillar_(1.4625, 2.4625)" type="fixed">
      <origin xyz="5.85 9.85 0.4" rpy="0 0 0"/>
      <parent link="base_link"/>
      <child link="link_fixed_45_pillar_(1.4625, 2.4625)"/>
    </joint>

    <joint name="link_fixed_46_wall_(1.4625, 2.0)" type="fixed">
      <origin xyz="5.85 8.0 0.4" rpy="0 0 0"/>
      <parent link="base_link"/>
      <child link="link_fixed_46_wall_(1.4625, 2.0)"/>
    </joint>

    <joint name="link_fixed_47_pillar_(0.5375, 1.5375)" type="fixed">
      <origin xyz="2.15 6.15 0.4" rpy="0 0 0"/>
      <parent link="base_link"/>
      <child link="link_fixed_47_pillar_(0.5375, 1.5375)"/>
    </joint>

    <joint name="link_fixed_48_wall_(0.5375, 2.0)" type="fixed">
      <origin xyz="2.15 8.0 0.4" rpy="0 0 0"/>
      <parent link="base_link"/>
      <child link="link_fixed_48_wall_(0.5375, 2.0)"/>
    </joint>

    <joint name="link_fixed_49_pillar_(1.4625, 1.5375)" type="fixed">
      <origin xyz="5.85 6.15 0.4" rpy="0 0 0"/>
      <parent link="base_link"/>
      <child link="link_fixed_49_pillar_(1.4625, 1.5375)"/>
    </joint>

    <joint name="link_fixed_4_wall_(0.0, 0.4625)" type="fixed">
      <origin xyz="0 1.85 0.4" rpy="0 0 0"/>
      <parent link="base_link"/>
      <child link="link_fixed_4_wall_(0.0, 0.4625)"/>
    </joint>

    <joint name="link_fixed_5_pillar_(0.4625, 0.4625)" type="fixed">
      <origin xyz="1.85 1.85 0.4" rpy="0 0 0"/>
      <parent link="base_link"/>
      <child link="link_fixed_5_pillar_(0.4625, 0.4625)"/>
    </joint>

    <joint name="link_fixed_6_wall_(0.4625, -0.3375)" type="fixed">
      <origin xyz="1.85 -1.35 0.4" rpy="0 0 0"/>
      <parent link="base_link"/>
      <child link="link_fixed_6_wall_(0.4625, -0.3375)"/>
    </joint>

    <joint name="link_fixed_7_wall_(0.4625, 0.3375)" type="fixed">
      <origin xyz="1.85 1.35 0.4" rpy="0 0 0"/>
      <parent link="base_link"/>
      <child link="link_fixed_7_wall_(0.4625, 0.3375)"/>
    </joint>

    <joint name="link_fixed_8_pillar_(-0.4625, -0.4625)" type="fixed">
      <origin xyz="-1.85 -1.85 0.4" rpy="0 0 0"/>
      <parent link="base_link"/>
      <child link="link_fixed_8_pillar_(-0.4625, -0.4625)"/>
    </joint>

    <joint name="link_fixed_9_wall_(-0.4625, 0.0)" type="fixed">
      <origin xyz="-1.85 0 0.4" rpy="0 0 0"/>
      <parent link="base_link"/>
      <child link="link_fixed_9_wall_(-0.4625, 0.0)"/>
    </joint>

    <material name="black">
      <color rgba="0 0 0 1.0"/>
    </material>

    <material name="gray">
      <color rgba="0.5 0.5 0.5 1.0"/>
    </material>

    <material name="green">
      <color rgba="0 1.0 0 1.0"/>
    </material>

    <material name="green_translucent">
      <color rgba="0 1.0 0 0.25"/>
    </material>

    <material name="red">
      <color rgba="1.0 0 0 1.0"/>
    </material>

    <material name="yellow">
      <color rgba="1.0 1.0 0 1.0"/>
    </material>

  </robot>
